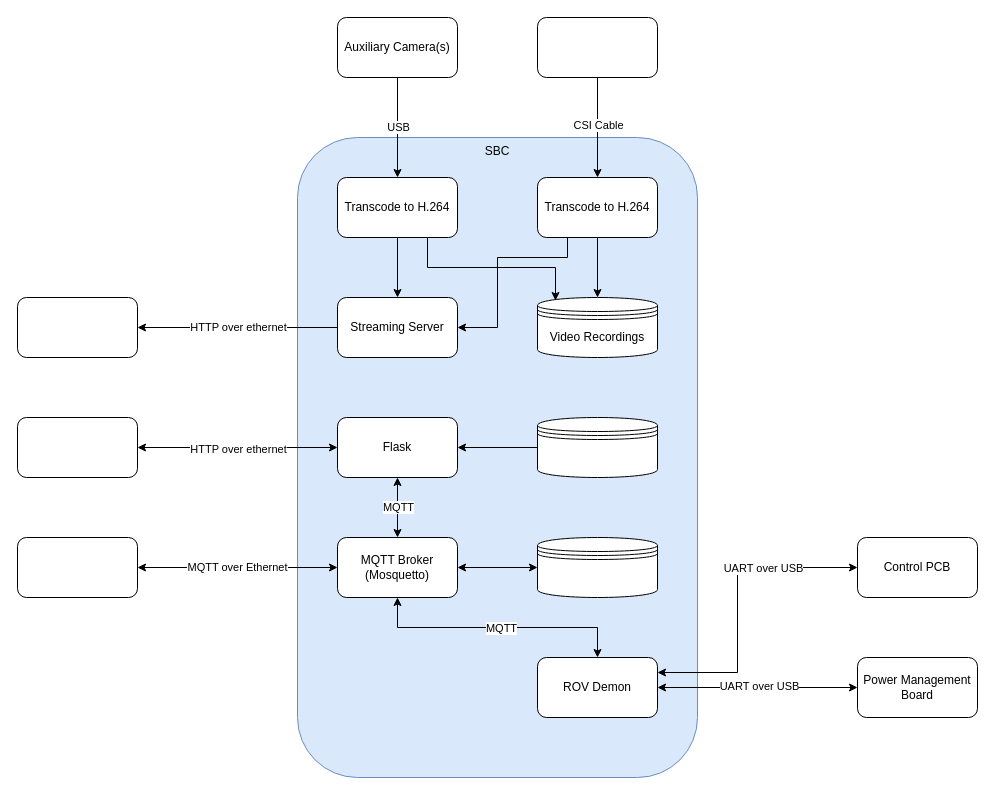
This 995x795 diagram has some shape labels left out. The centre of each missing label's shape, as x and y in pixels:
HID (Human Interface Device): the point at 77,567
Main Camera (RPi Camera Module): the point at 597,47
Persistent datastore: the point at 597,567
Screen(s) showing Camera information: the point at 77,327
Screen(s) showing ROV information: the point at 77,447
Web Assets: the point at 597,447
